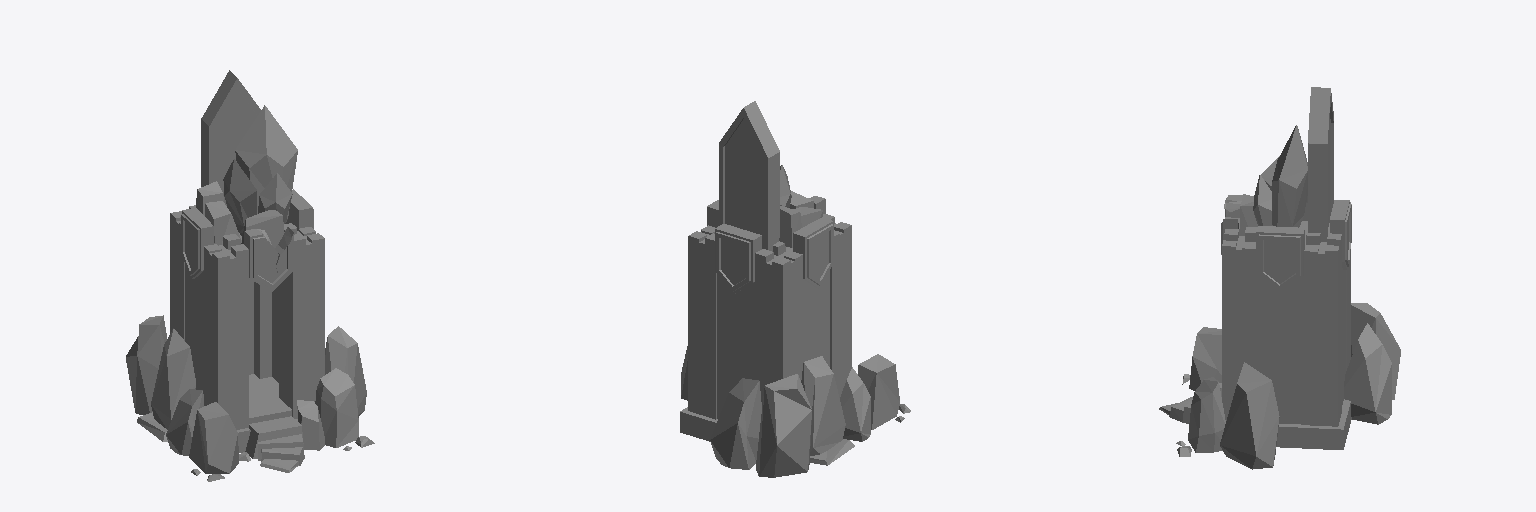
The model's file is Torre.obj.
3 renders of one model, left to right at view 1: azimuth 30°, elevation 25°; view 2: azimuth 150°, elevation 25°; view 3: azimuth 270°, elevation 25°, orthographic.
Parts seen in each view (by area): view 1: Magic_tower_Mesh; view 2: Magic_tower_Mesh; view 3: Magic_tower_Mesh.
Boxes of the visible parts, x1,y1,x2,y2 form: Magic_tower_Mesh: [126, 70, 374, 481]; Magic_tower_Mesh: [680, 101, 910, 477]; Magic_tower_Mesh: [1159, 87, 1400, 469].
Size of the model in its own units: 5.25 by 8.48 by 5.57.